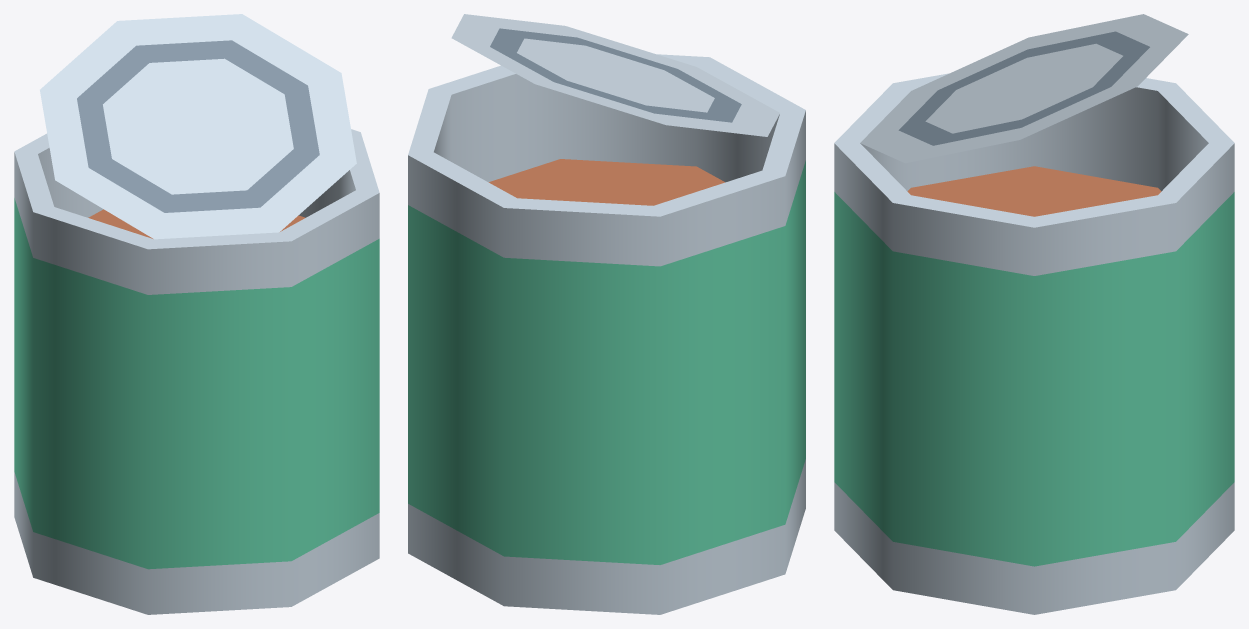
The model's file is Can Open.glb.
3 renders of one model, left to right at view 1: azimuth 30°, elevation 25°; view 2: azimuth 150°, elevation 25°; view 3: azimuth 270°, elevation 25°, orthographic. The views are drawn at different scales.
Parts seen in each view (by area): view 1: canOpen; view 2: canOpen; view 3: canOpen.
Part boxes in pixels (x1=…): canOpen: x1=14, y1=14, x2=379, y2=614; canOpen: x1=408, y1=14, x2=805, y2=614; canOpen: x1=834, y1=14, x2=1234, y2=614.
Bounding box in the file's own units: 0.3 × 0.4071 × 0.3.
